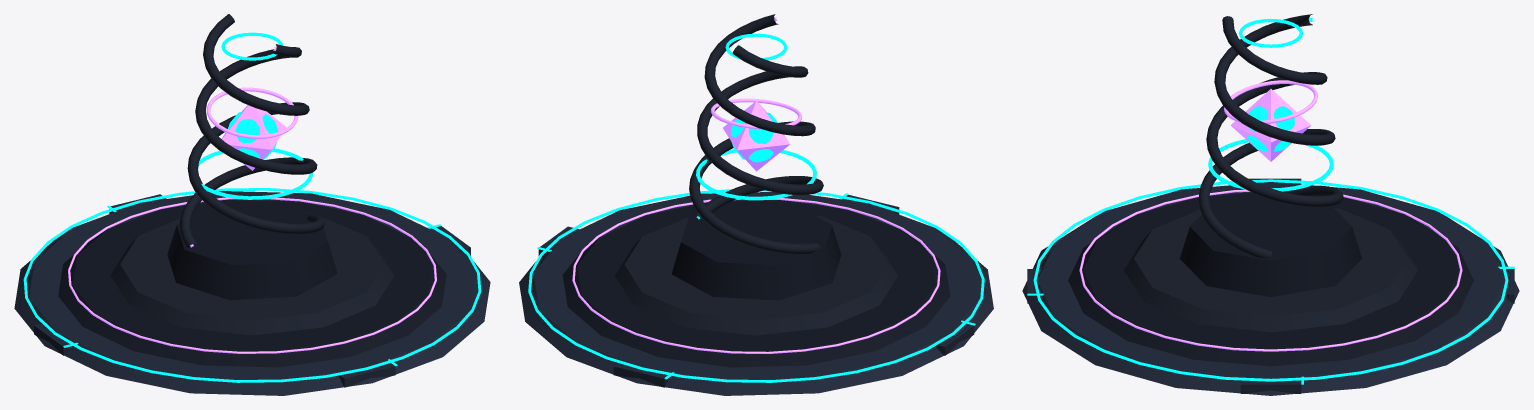
File: monument_central.glb
3 views of the same model, side by side, from view 1: azimuth 30°, elevation 25°; view 2: azimuth 150°, elevation 25°; view 3: azimuth 270°, elevation 25° (orthographic). The views are drawn at different scales.
Parts seen in each view (by area): view 1: CentralPlazaMonument; view 2: CentralPlazaMonument; view 3: CentralPlazaMonument.
Boxes of the visible parts, box(x1,y1,x2,y2) form: CentralPlazaMonument: box(14, 14, 490, 395); CentralPlazaMonument: box(519, 14, 993, 395); CentralPlazaMonument: box(1022, 14, 1519, 395).
Bounding box in the file's own units: 19.6 × 12 × 19.6.
